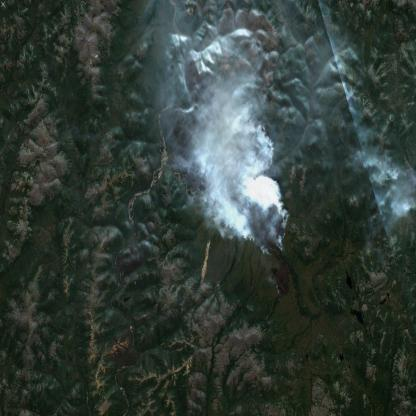fire: (217, 115, 295, 263)
